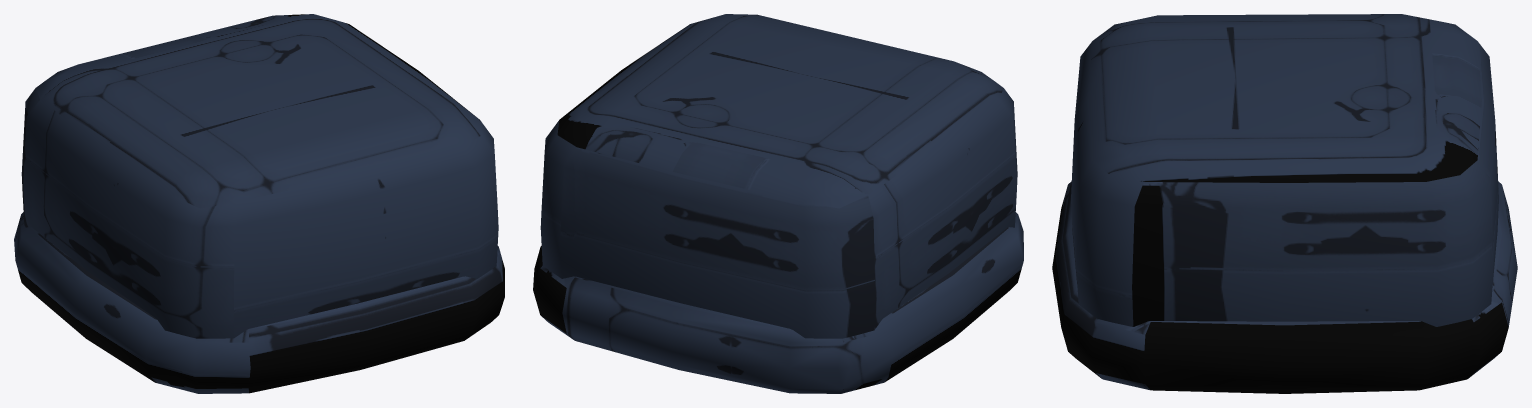
The model's file is Albatros_PunoDer.fbx.
3 renders of one model, left to right at view 1: azimuth 30°, elevation 25°; view 2: azimuth 150°, elevation 25°; view 3: azimuth 270°, elevation 25°, orthographic. The views are drawn at different scales.
Parts seen in each view (by area): view 1: Albatros_PunoDer; view 2: Albatros_PunoDer; view 3: Albatros_PunoDer.
Part boxes in pixels (x1=…): Albatros_PunoDer: x1=14, y1=14, x2=504, y2=393; Albatros_PunoDer: x1=533, y1=14, x2=1023, y2=393; Albatros_PunoDer: x1=1052, y1=14, x2=1517, y2=393.
Bounding box in the file's own units: 1.77 × 1.01 × 1.77.
